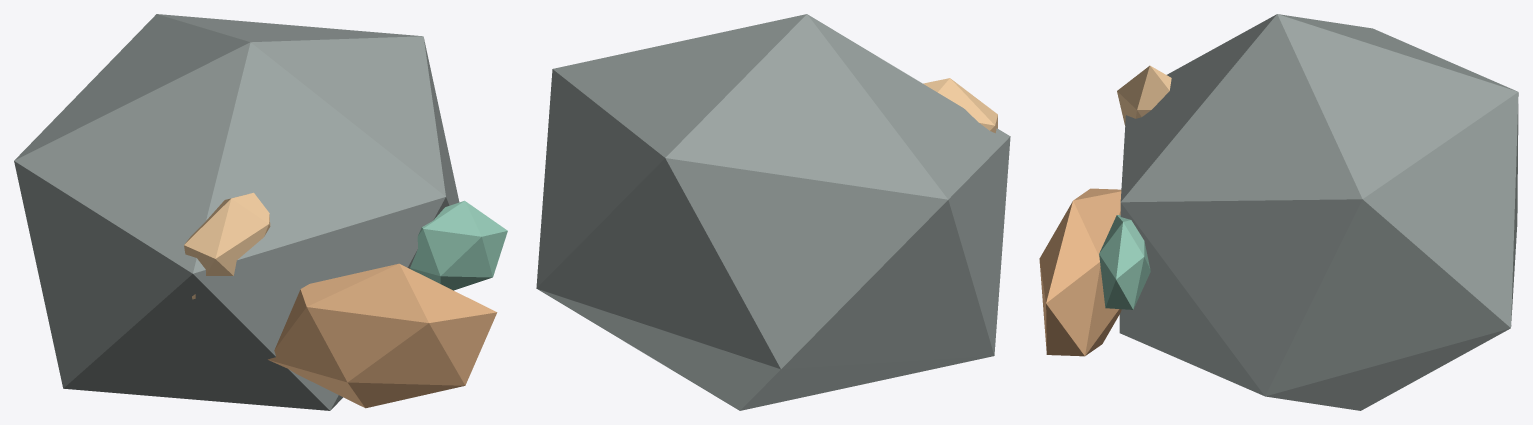
Rendered from drop_copper_ore.glb.
3 renders of one model, left to right at view 1: azimuth 30°, elevation 25°; view 2: azimuth 150°, elevation 25°; view 3: azimuth 270°, elevation 25°, orthographic. The views are drawn at different scales.
Parts seen in each view (by area): view 1: DroppedOreRock, DroppedOreVein, DroppedCopperPatina, DroppedOreHighlight; view 2: DroppedOreRock, DroppedOreHighlight; view 3: DroppedOreRock, DroppedOreVein, DroppedCopperPatina, DroppedOreHighlight.
Boxes of the visible parts, x1,y1,x2,y2 form: DroppedOreRock: (14, 14, 459, 410); DroppedOreVein: (268, 263, 497, 408); DroppedCopperPatina: (410, 200, 507, 290); DroppedOreHighlight: (184, 192, 270, 299); DroppedOreRock: (536, 14, 1010, 410); DroppedOreHighlight: (923, 78, 997, 133); DroppedOreRock: (1119, 14, 1518, 410); DroppedOreVein: (1039, 188, 1121, 356); DroppedCopperPatina: (1099, 215, 1150, 309); DroppedOreHighlight: (1117, 65, 1171, 125).
Bounding box in the file's own units: 0.3196 × 0.2838 × 0.3211.
